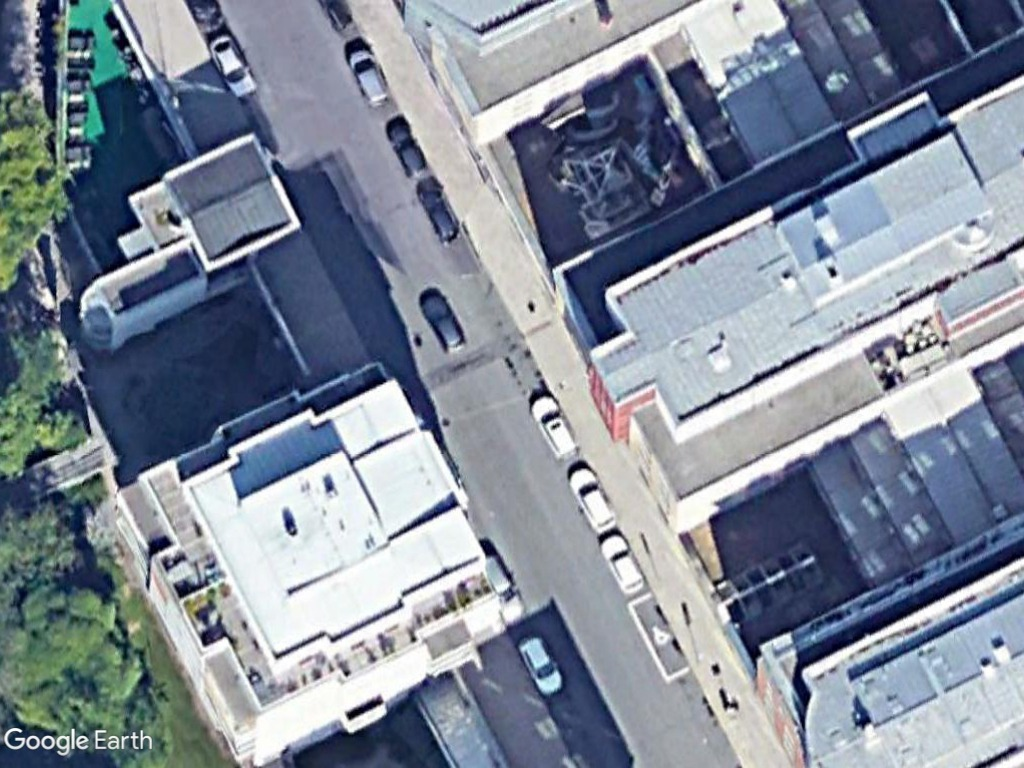car: (559, 457, 626, 540), (203, 30, 265, 107), (523, 391, 583, 467), (410, 174, 470, 249), (507, 630, 566, 702), (414, 288, 471, 359), (338, 44, 392, 114), (380, 108, 433, 177), (595, 530, 646, 597)
